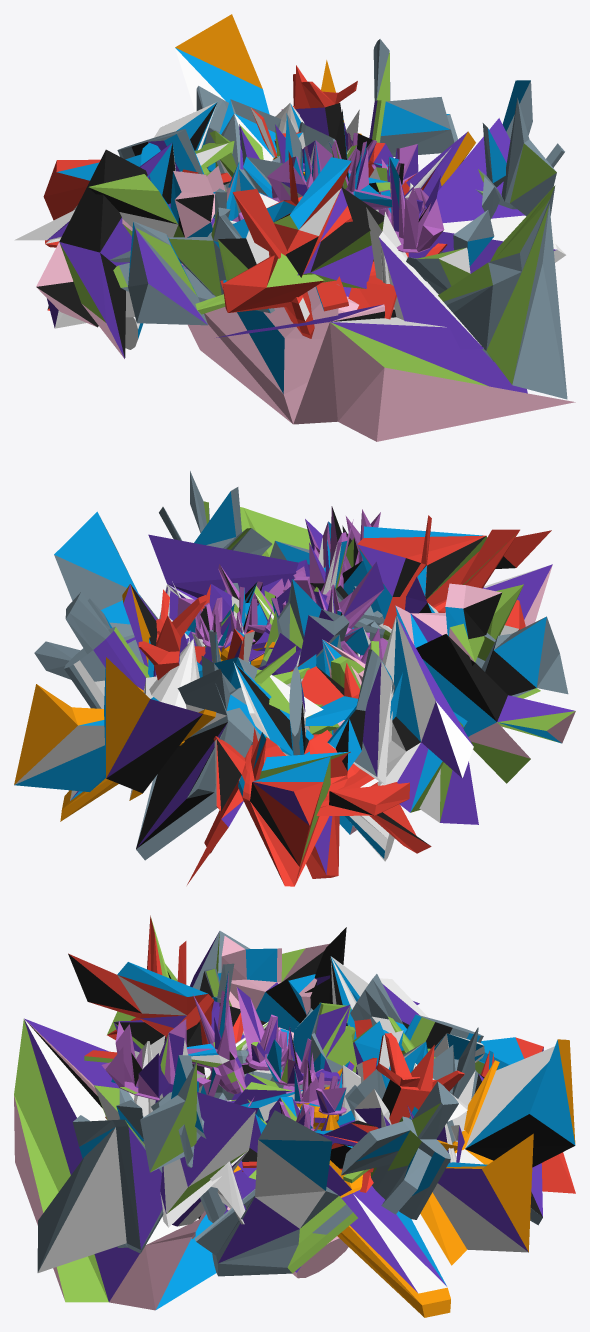
The model's file is ABSTRACT01.glb.
3 views of the same model, one above another, from view 1: azimuth 30°, elevation 25°; view 2: azimuth 150°, elevation 25°; view 3: azimuth 270°, elevation 25° (orthographic). The views are drawn at different scales.
Visible parts, largest first — view 1: group1081470005, group446828488, group1631538619, group825069449, group1152358232, group230952072, group670989974, group850636008, group302391868, group402159454, group1159816960, group1470955445 (+23 smaller); view 2: group850636008, group1373622776, group936971488, group2093785417, group1631538619, group670989974, group530013818, group1159816960, group319104246, group302391868, group797715209, group1152358232 (+29 smaller); view 3: group1081470005, group850636008, group319104246, group446828488, group162200701, group1159816960, group670989974, group302391868, group230952072, group402159454, group705191089, group2093785417 (+27 smaller).
Part boxes in pixels (x1,y1,x2,y2): group1081470005: (188, 284, 575, 441); group446828488: (438, 185, 567, 399); group1631538619: (36, 149, 150, 358); group825069449: (222, 189, 324, 338); group1152358232: (113, 221, 215, 325); group230952072: (88, 166, 224, 265); group670989974: (220, 151, 352, 289); group850636008: (175, 14, 361, 134); group302391868: (408, 118, 565, 273); group402159454: (476, 97, 564, 219); group1159816960: (369, 39, 457, 156); group1470955445: (366, 207, 483, 349); group850636008: (14, 657, 216, 800); group1373622776: (187, 727, 350, 886); group936971488: (377, 615, 478, 824); group2093785417: (136, 656, 266, 860); group1631538619: (390, 634, 575, 783); group670989974: (357, 515, 551, 628); group530013818: (306, 730, 431, 878); group1159816960: (34, 592, 149, 708); group319104246: (54, 511, 158, 663); group302391868: (148, 534, 309, 599); group797715209: (327, 649, 394, 784); group1152358232: (481, 616, 568, 698); group1081470005: (14, 1018, 216, 1310); group850636008: (420, 1039, 575, 1265); group319104246: (194, 1110, 357, 1276); group446828488: (37, 1115, 163, 1272); group162200701: (321, 1115, 450, 1317); group1159816960: (341, 1081, 458, 1219); group670989974: (68, 941, 243, 1044); group302391868: (155, 1083, 255, 1227); group230952072: (221, 936, 329, 1040); group402159454: (140, 1055, 227, 1222); group705191089: (101, 1019, 221, 1100); group2093785417: (316, 1027, 542, 1225).
Size of the model in its own units: 9.22 by 5.65 by 9.6.
